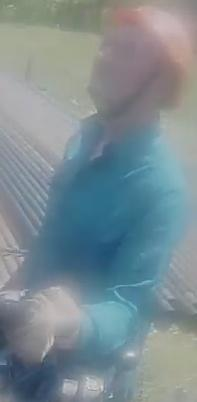gloves: (0, 285, 90, 370)
helmet: (99, 4, 193, 110)
vest: (52, 119, 171, 331)
